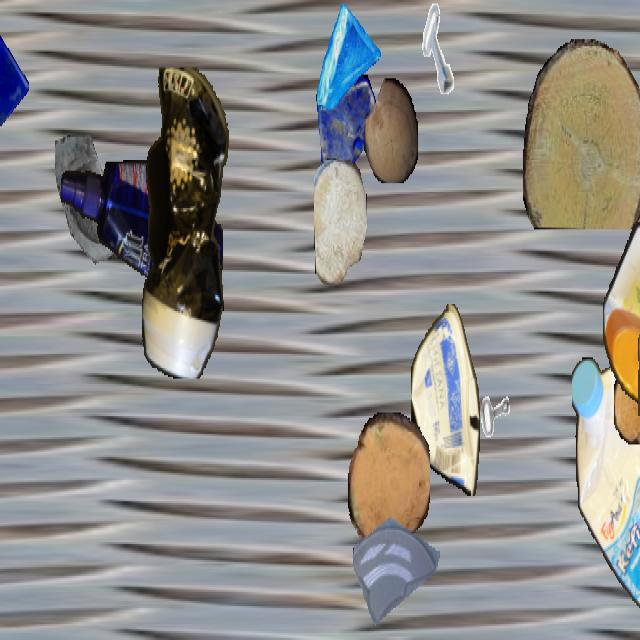glass: (53, 135, 139, 288), (353, 486, 439, 638), (314, 75, 380, 192), (315, 2, 381, 119), (0, 2, 31, 137)
metal: (461, 343, 519, 446), (414, 2, 466, 94)
plastic: (142, 67, 230, 377), (61, 160, 223, 306), (572, 356, 640, 615), (411, 304, 479, 496), (603, 222, 640, 404), (638, 324, 640, 462)
wood: (523, 39, 640, 228), (348, 413, 430, 551), (314, 158, 366, 283), (364, 78, 418, 182), (614, 362, 640, 444)
